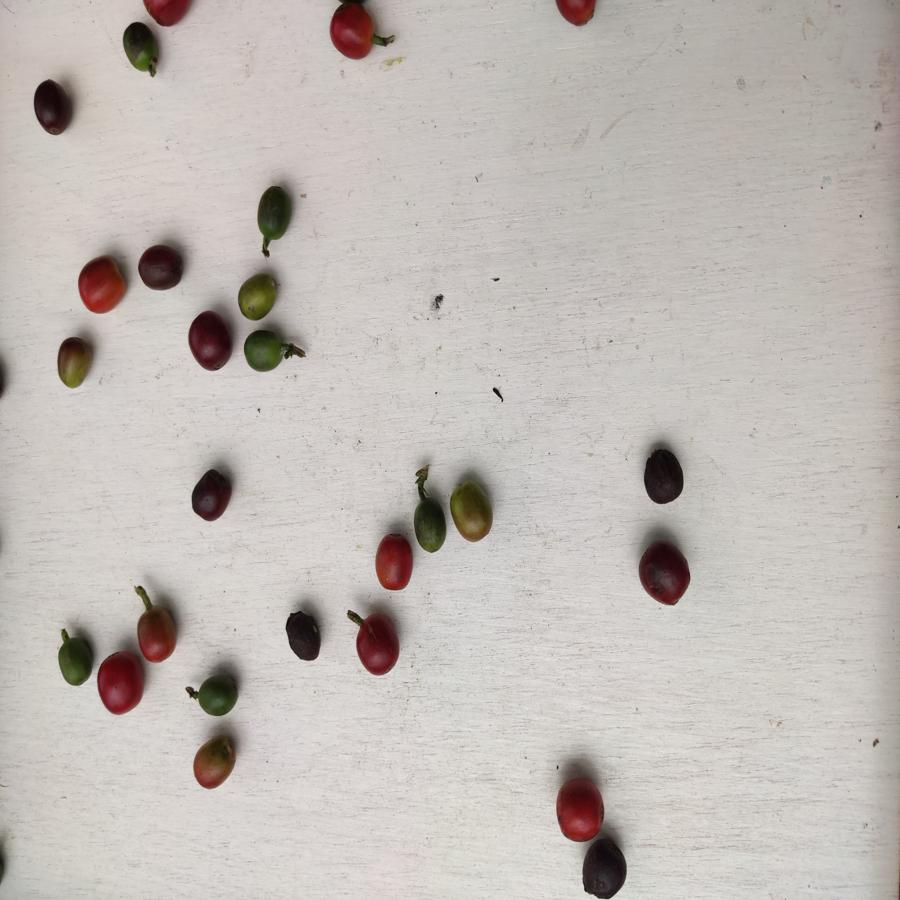Inmaduro: (254, 181, 294, 245), (120, 19, 161, 76), (242, 324, 285, 374), (55, 632, 94, 686), (413, 494, 448, 552), (197, 673, 239, 717)
Maduro: (76, 254, 128, 316), (555, 776, 604, 841), (95, 652, 144, 715), (328, 2, 382, 59), (371, 529, 414, 597)
Pinton: (448, 478, 495, 543), (191, 734, 238, 792), (134, 606, 178, 662), (236, 271, 280, 322), (56, 336, 94, 389)
Sobremaduro: (638, 540, 692, 610), (579, 838, 632, 900), (185, 307, 234, 371), (352, 614, 401, 676), (29, 76, 77, 136), (639, 448, 687, 507), (280, 608, 325, 662), (190, 468, 233, 523), (137, 245, 186, 292)
